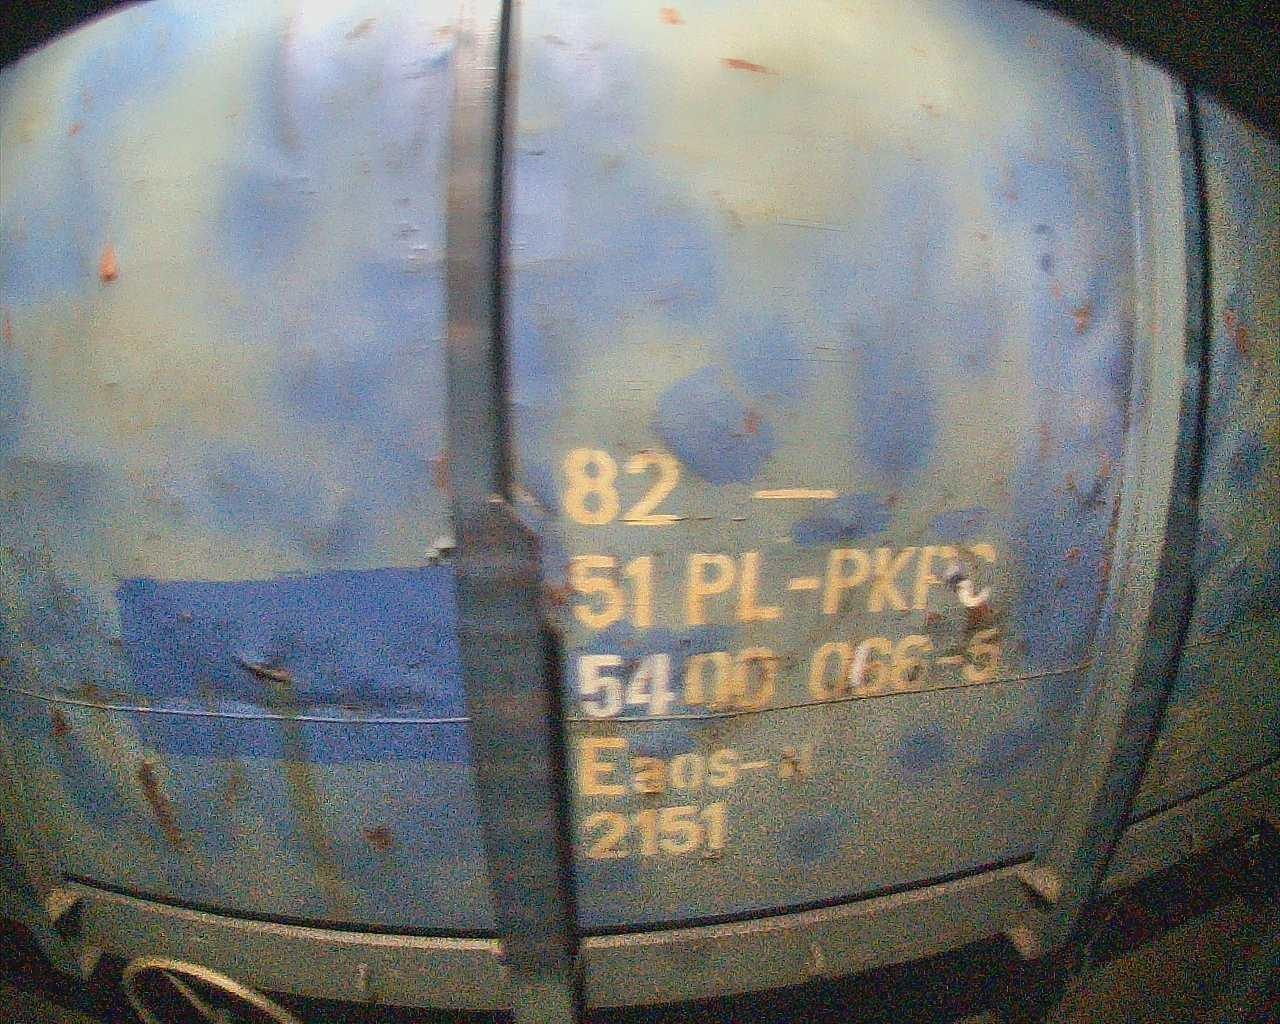UIC: (555, 444, 1010, 858)
